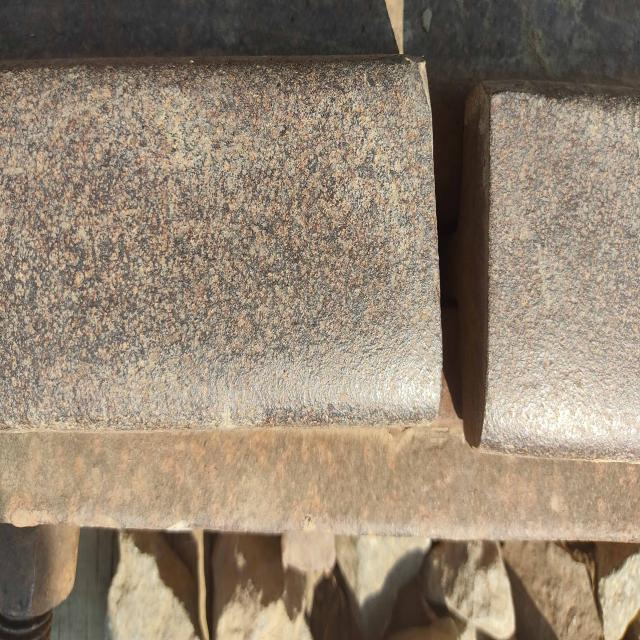broken_rail_low: (396, 56, 522, 462)
